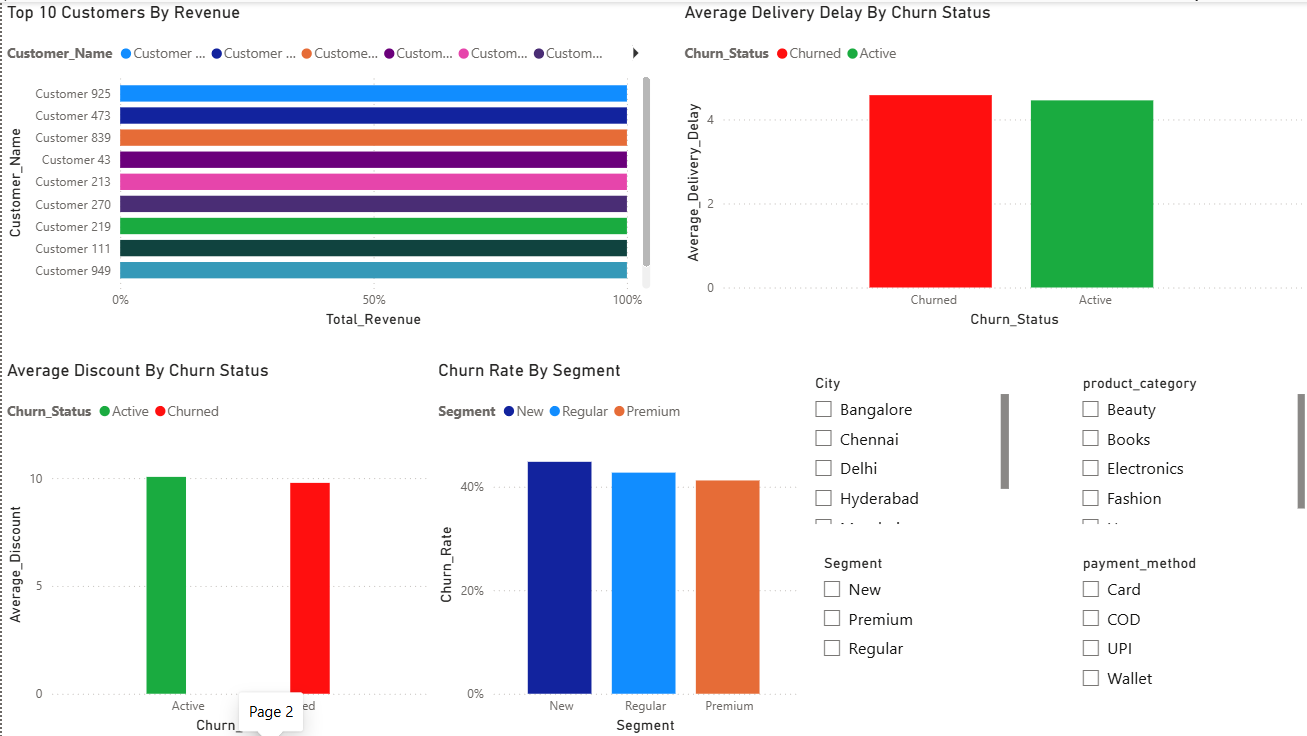

What the dashboard file says about the page in this screenshot:
{"tool":"powerbi","page":{"name":"Page 2","canvas":[1280,720],"ordinal":1},"visuals":[{"type":"columnChart","title":"Average Delivery Delay By Churn Status","fields":{"Category":["customer_churn.churn_status"],"Y":["customer_churn.average delivery delay"],"Series":["customer_churn.churn_status"]},"box":[662.8,0,617.5,322.8],"z":0},{"type":"clusteredColumnChart","title":"Average Discount By Churn Status ","fields":{"Category":["customer_churn.churn_status"],"Y":["orders.Average_Discount"],"Series":["customer_churn.churn_status"]},"box":[0,349.7,421.9,370.5],"z":1000},{"type":"slicer","fields":{"Values":["customers.city"]},"box":[782.2,359.5,207.2,156.4],"z":2000},{"type":"slicer","fields":{"Values":["orders.product_category"]},"box":[1044.3,359.5,236,156.4],"z":3000},{"type":"slicer","fields":{"Values":["customers.segment"]},"box":[791.8,535.2,207.2,185.2],"z":4000},{"type":"slicer","fields":{"Values":["orders.payment_method"]},"box":[1044.3,535.2,236,185.2],"z":5000},{"type":"hundredPercentStackedBarChart","title":"Top 10 Customers By Revenue","fields":{"Y":["orders.total_revenue"],"Category":["customers.customer_name"],"Series":["customers.customer_name"]},"box":[0,0,639.5,322.8],"z":6000},{"type":"columnChart","title":"Churn Rate By Segment","fields":{"Category":["customers.segment"],"Y":["customer_churn.churn_rate"],"Series":["customers.segment"]},"box":[421.9,349.7,360.7,370.5],"z":7000}]}

Visuals, with their boxes in screenshot pixels (x1, y1, x2, y2), scaled from the page's 1280x720 canvas onto the 1307x736 screenshot:
"Average Delivery Delay By Churn Status" columnChart: [677, 0, 1306, 330]
"Average Discount By Churn Status " clusteredColumnChart: [0, 357, 431, 735]
slicer - customers.city: [799, 367, 1010, 527]
slicer - orders.product_category: [1066, 367, 1306, 527]
slicer - customers.segment: [809, 547, 1020, 735]
slicer - orders.payment_method: [1066, 547, 1306, 735]
"Top 10 Customers By Revenue" hundredPercentStackedBarChart: [0, 0, 653, 330]
"Churn Rate By Segment" columnChart: [431, 357, 799, 735]
